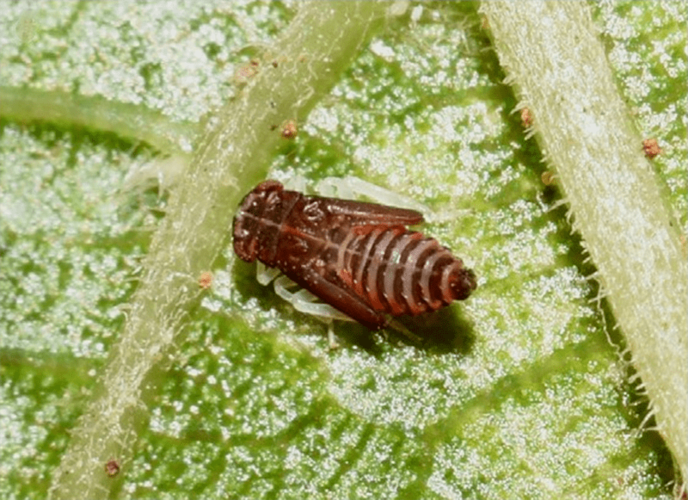Cicadellidae: (233, 182, 478, 328)
